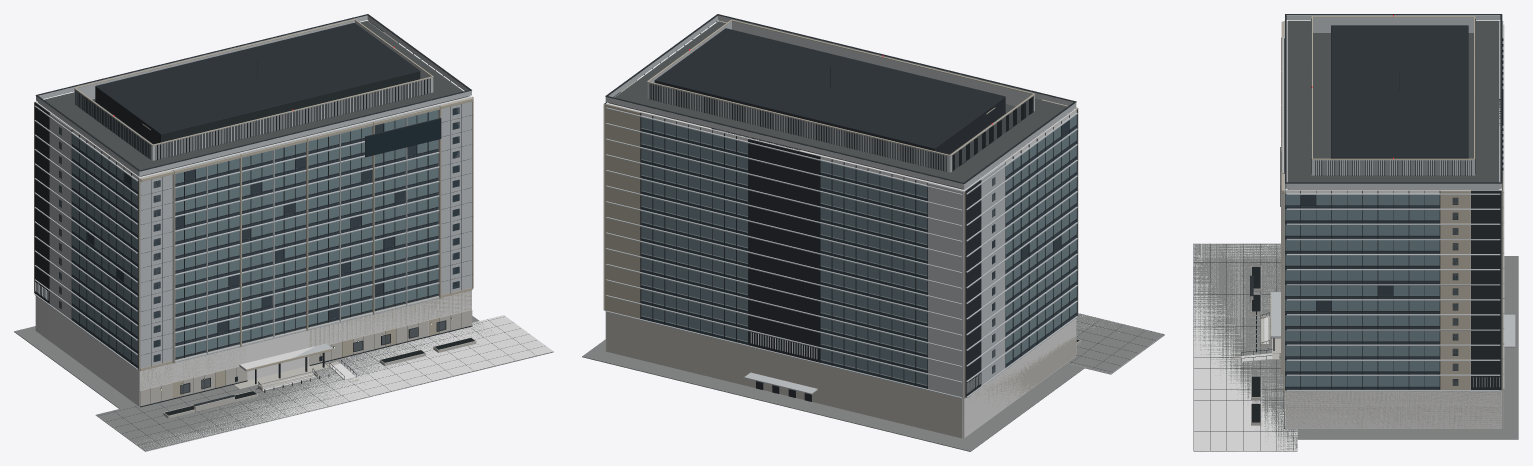
Rendered from SK_HynixHQ.fbx.
3 views of the same model, side by side, from view 1: azimuth 30°, elevation 25°; view 2: azimuth 150°, elevation 25°; view 3: azimuth 270°, elevation 25° (orthographic). The views are drawn at different scales.
Visible parts, largest first — view 1: COL_Main_Building, Mass_Mechanical_Penthouse, COL_Entrance_Plaza, Site_Entrance_Plaza, Front_Core_Cladding_West, Front_Core_Cladding_East, Mass_Roof_Base, West_Core_Cladding, Mass_Roof_Screen_Front, Mass_Site_Reference_Plate, West_Rear_Service_Panel, Mass_Podium_East_Wing (+29 smaller); view 2: COL_Main_Building, Mass_Mechanical_Penthouse, Rear_Opaque_Zone_Service_Core, Rear_Ground_Floor_Cladding, Rear_Opaque_Zone_West_Core, Rear_Opaque_Zone_East_Core, Mass_Site_Reference_Plate, Mass_Roof_Base, West_Core_Cladding, Mass_Roof_Screen_Rear, Site_Entrance_Plaza, West_Rear_Service_Panel (+25 smaller); view 3: COL_Main_Building, Mass_Mechanical_Penthouse, Mass_Roof_Base, COL_Entrance_Plaza, Site_Entrance_Plaza, Mass_Site_Reference_Plate, Mass_Podium_East_Wing, East_Rear_Service_Panel, East_Core_Cladding, Mass_Roof_Screen_Right, Mass_Roof_Screen_Left, Roof_Parapet_East (+30 smaller).
Part boxes in pixels (bbox=[...]): COL_Main_Building: bbox=[35, 96, 471, 406]; Mass_Mechanical_Penthouse: bbox=[95, 23, 420, 144]; COL_Entrance_Plaza: bbox=[95, 315, 553, 451]; Site_Entrance_Plaza: bbox=[96, 346, 553, 451]; Front_Core_Cladding_West: bbox=[140, 170, 172, 368]; Front_Core_Cladding_East: bbox=[441, 97, 472, 294]; Mass_Roof_Base: bbox=[44, 21, 468, 176]; West_Core_Cladding: bbox=[49, 113, 71, 319]; Mass_Roof_Screen_Front: bbox=[152, 77, 433, 160]; Mass_Site_Reference_Plate: bbox=[14, 316, 494, 413]; West_Rear_Service_Panel: bbox=[34, 102, 49, 303]; Mass_Podium_East_Wing: bbox=[309, 290, 471, 347]; COL_Main_Building: bbox=[605, 21, 1076, 438]; Mass_Mechanical_Penthouse: bbox=[654, 28, 1005, 154]; Rear_Opaque_Zone_Service_Core: bbox=[748, 139, 819, 362]; Rear_Ground_Floor_Cladding: bbox=[606, 312, 962, 438]; Rear_Opaque_Zone_West_Core: bbox=[928, 183, 963, 397]; Rear_Opaque_Zone_East_Core: bbox=[605, 104, 640, 318]; Mass_Site_Reference_Plate: bbox=[582, 339, 1084, 451]; Mass_Roof_Base: bbox=[609, 21, 1067, 189]; West_Core_Cladding: bbox=[981, 162, 1005, 385]; Mass_Roof_Screen_Rear: bbox=[647, 82, 950, 172]; Site_Entrance_Plaza: bbox=[1067, 314, 1164, 374]; West_Rear_Service_Panel: bbox=[965, 180, 981, 397]; COL_Main_Building: bbox=[1285, 21, 1501, 428]; Mass_Mechanical_Penthouse: bbox=[1331, 25, 1468, 158]; Mass_Roof_Base: bbox=[1287, 20, 1499, 182]; COL_Entrance_Plaza: bbox=[1193, 243, 1297, 451]; Site_Entrance_Plaza: bbox=[1193, 243, 1297, 451]; Mass_Site_Reference_Plate: bbox=[1243, 256, 1518, 439]; Mass_Podium_East_Wing: bbox=[1285, 390, 1501, 428]; East_Rear_Service_Panel: bbox=[1471, 190, 1501, 390]; East_Core_Cladding: bbox=[1440, 190, 1470, 389]; Mass_Roof_Screen_Right: bbox=[1312, 160, 1474, 175]; Mass_Roof_Screen_Left: bbox=[1313, 17, 1473, 32]; Roof_Parapet_East: bbox=[1286, 183, 1500, 188].
Size of the model in its own units: 11800 by 7435 by 7802.
